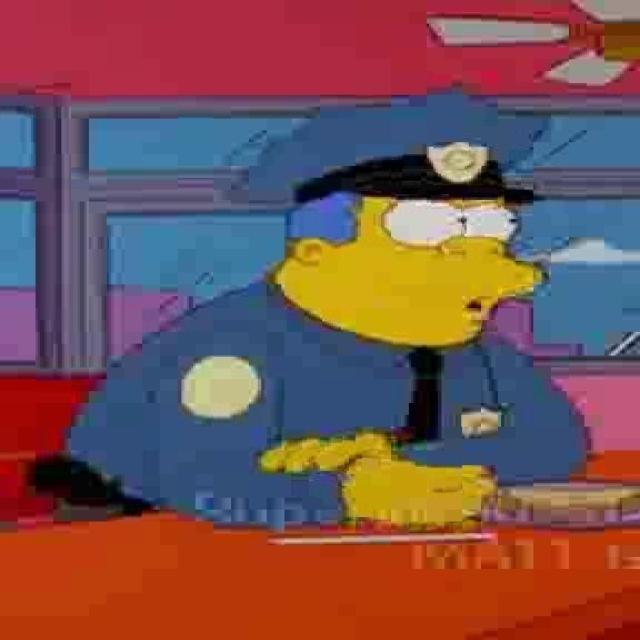Chief Wiggam: (234, 88, 554, 351)
